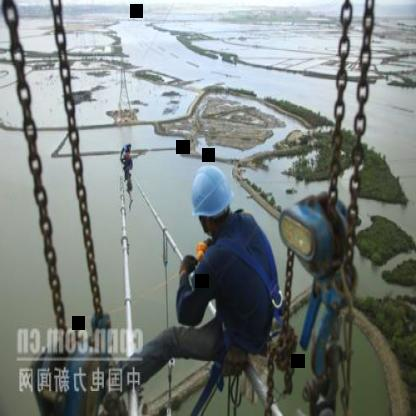helmet: (186, 165, 234, 237)
